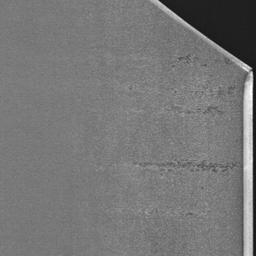Crescent gap: (162, 0, 256, 67)
